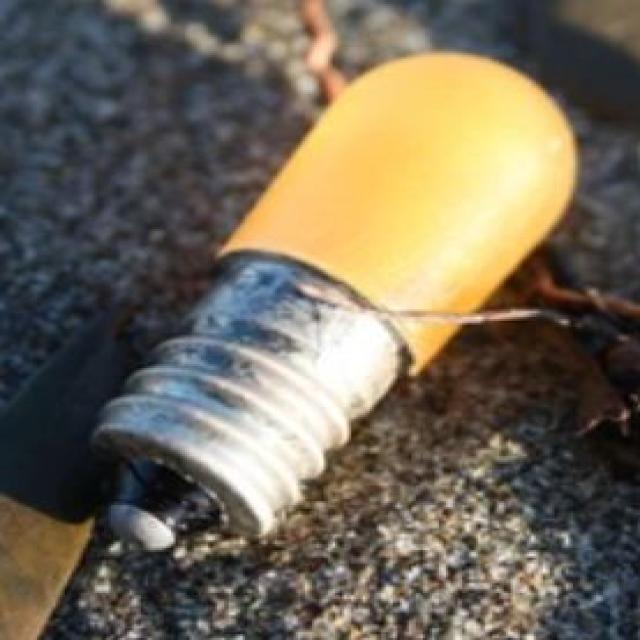electronic: (85, 47, 578, 552)
